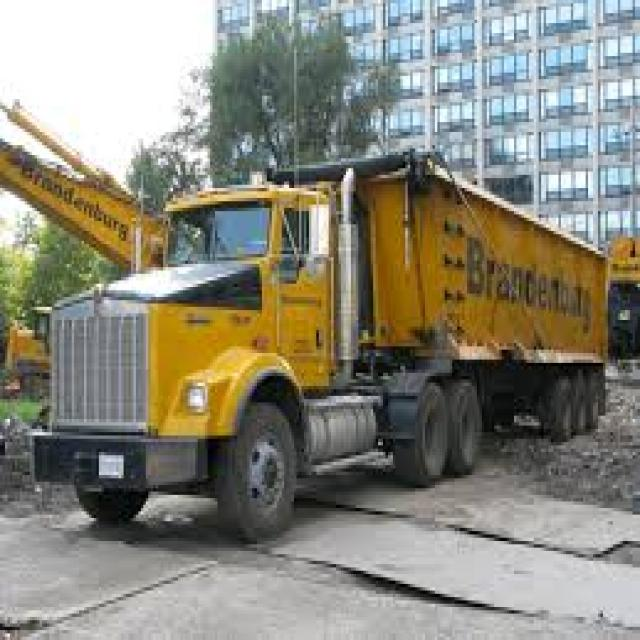dump_truck: (41, 147, 608, 544)
